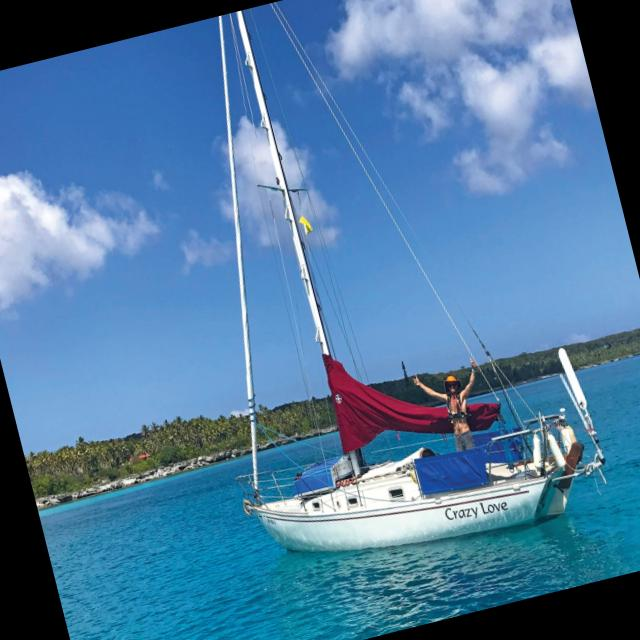boat: (130, 0, 640, 617)
